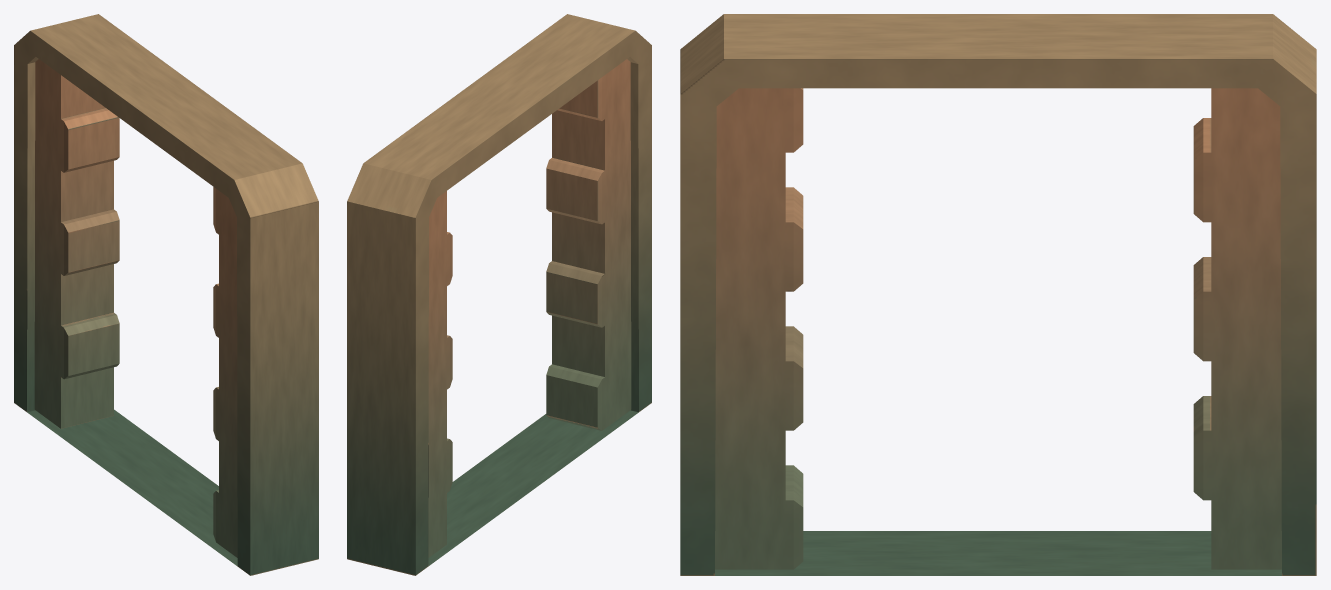
File: Electric_Door_Open.fbx
The picture shows the model from 3 angles, left to right: view 1: azimuth 30°, elevation 25°; view 2: azimuth 150°, elevation 25°; view 3: azimuth 270°, elevation 25°; orthographic projection. The views are drawn at different scales.
Parts seen in each view (by area): view 1: Electric_Door_Open; view 2: Electric_Door_Open; view 3: Electric_Door_Open.
Part boxes in pixels (left/top/right/bottom): Electric_Door_Open: left=14, top=14, right=318, bottom=575; Electric_Door_Open: left=347, top=14, right=651, bottom=575; Electric_Door_Open: left=680, top=14, right=1316, bottom=575.
Size of the model in its own units: 29.94 by 161 by 179.
